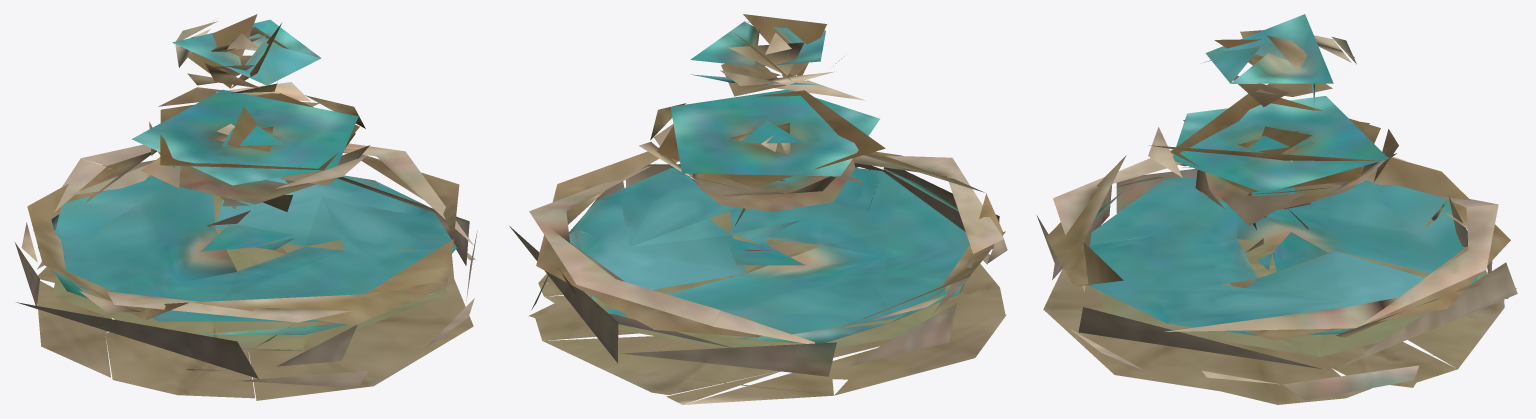
The model's file is stadt_brunnen_lo.glb.
3 renders of one model, left to right at view 1: azimuth 30°, elevation 25°; view 2: azimuth 150°, elevation 25°; view 3: azimuth 270°, elevation 25°, orthographic. The views are drawn at different scales.
Visible parts, largest first — view 1: Prop; view 2: Prop; view 3: Prop.
Part boxes in pixels (box(x1,y1,x2,y2)): Prop: box(15, 14, 477, 400); Prop: box(509, 14, 1007, 404); Prop: box(1036, 14, 1517, 404).
Bounding box in the file's own units: 1.52 × 0.9097 × 1.45.
1 material, 1 textured.
